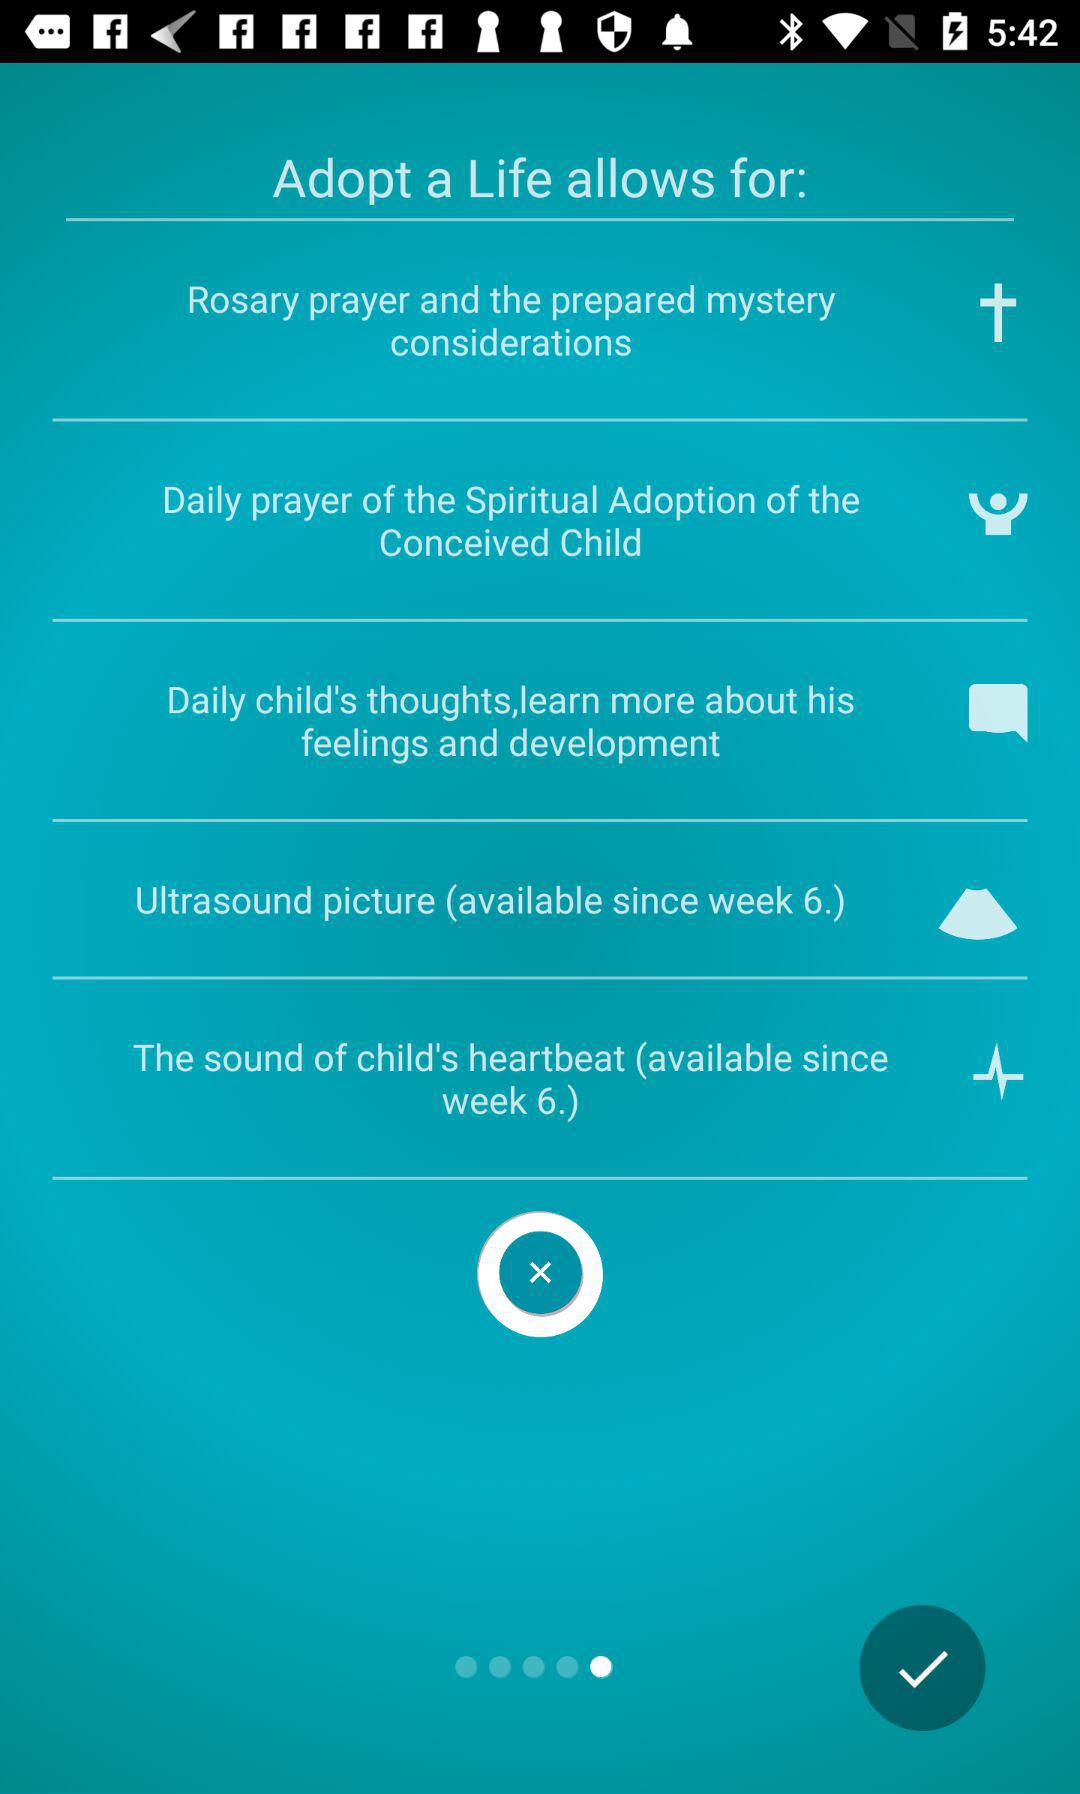Icon: (477, 1210, 605, 1340), (858, 1604, 986, 1731), (969, 684, 1029, 745), (969, 493, 1029, 537)
Image: (938, 888, 1019, 942), (972, 1042, 1024, 1102), (979, 282, 1017, 343)
PageIndicator: (454, 1654, 614, 1680)
Text: (133, 1041, 889, 1124), (169, 684, 855, 766), (165, 484, 861, 557), (190, 284, 837, 358), (136, 883, 846, 925), (272, 158, 806, 208)
UpperTaskBar: (1, 1, 1080, 64)
